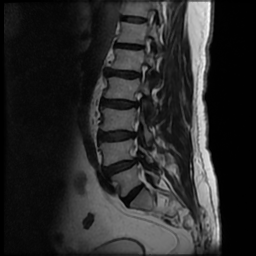LFS0: (133, 58, 152, 86)
